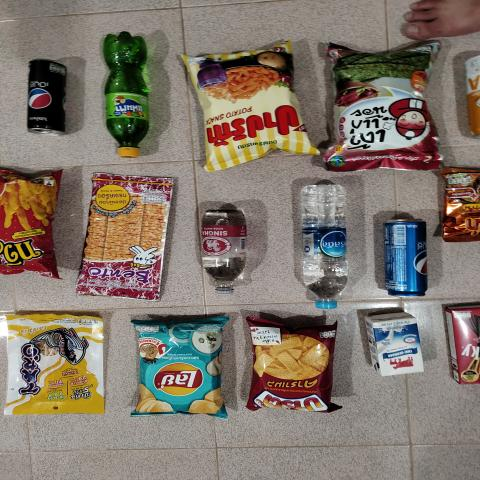bento_red: (85, 173, 163, 300)
crystal: (298, 176, 348, 310)
fanta_green: (99, 29, 148, 162)
lay_blue: (138, 324, 224, 415)
paprika: (192, 50, 305, 154)
party_red: (252, 317, 329, 413)
pepsi_black: (20, 60, 68, 140)
pepsi_blue: (388, 216, 430, 299)
singha_soda: (197, 204, 248, 294)
taokaenoi: (334, 54, 430, 166)
taro_yellow: (4, 311, 106, 412)
thai_denmark: (369, 322, 427, 378)
